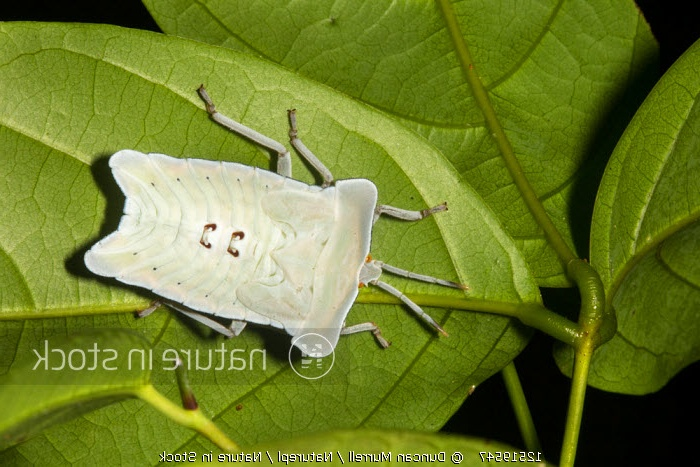Stink_Bug: (90, 158, 438, 347)
